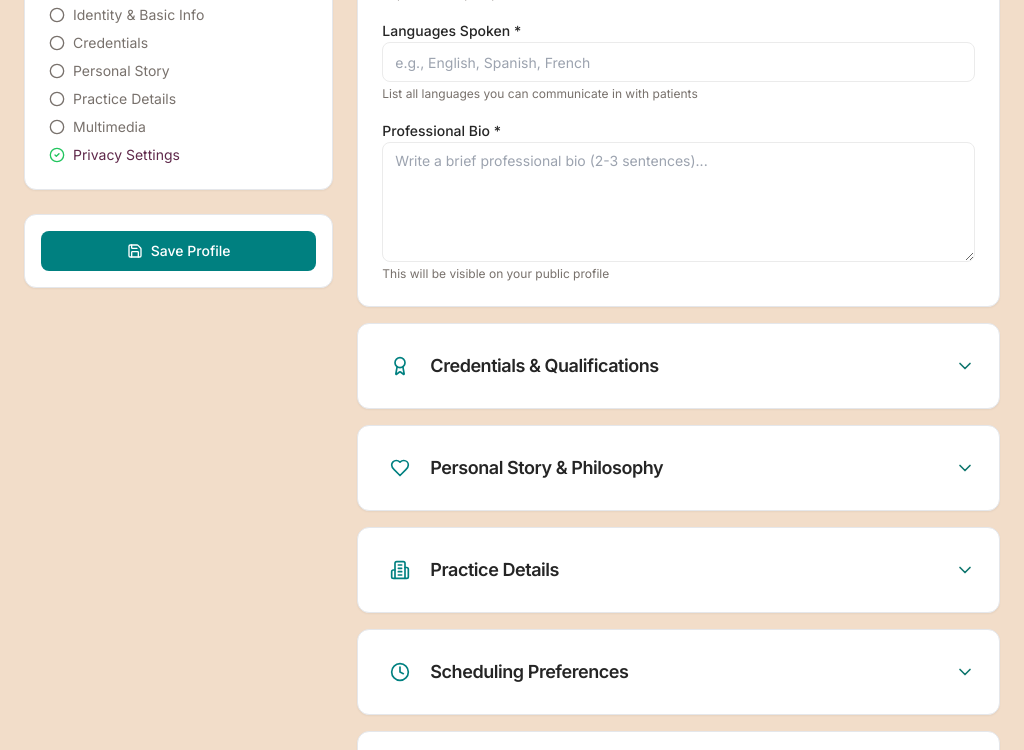
Test: EnhancedProviderProfileEditor › Section Expand/Collapse › should toggle section expansion on click
The image size is (1024, 750).
(page scrolled)
Expected: the heading "Credentials & Qualifications" is shown, 430,352 -> 659,380
Note: Click to expand
Click the button "Credentials & Qualifications" at {"x": 545, "y": 366}, box 390,355 -> 975,376
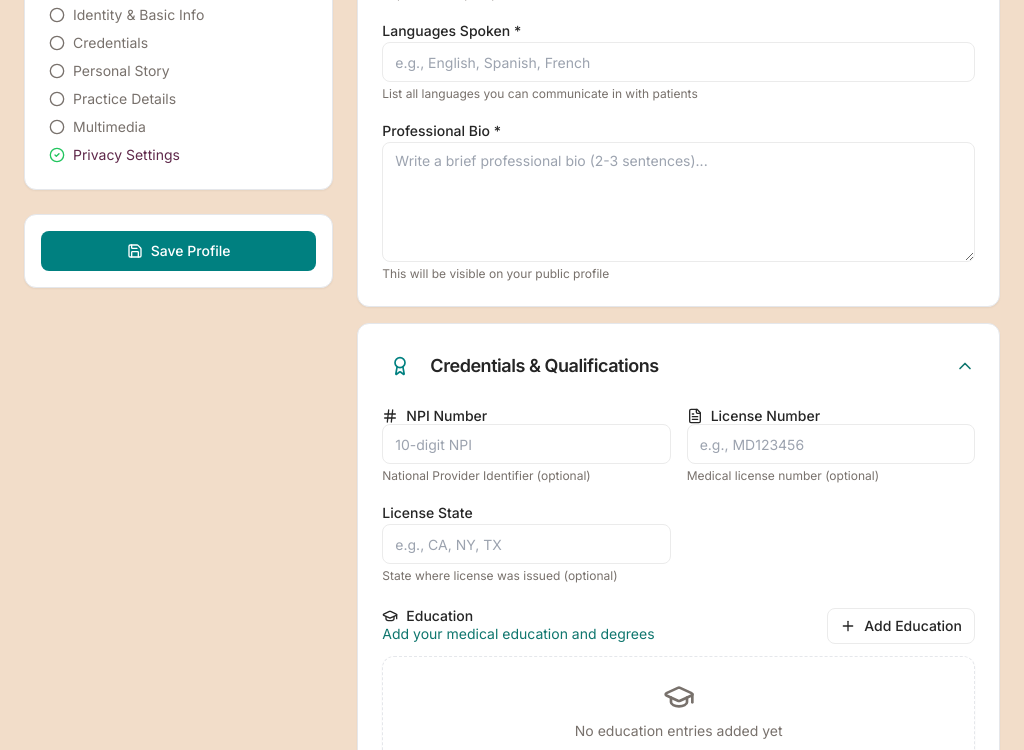
Now the button "Add Education" is shown, box 827,608 -> 975,644
